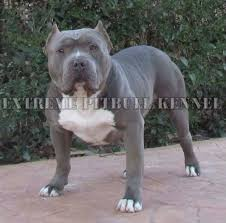Perro Pitbull: (23, 13, 212, 210)
